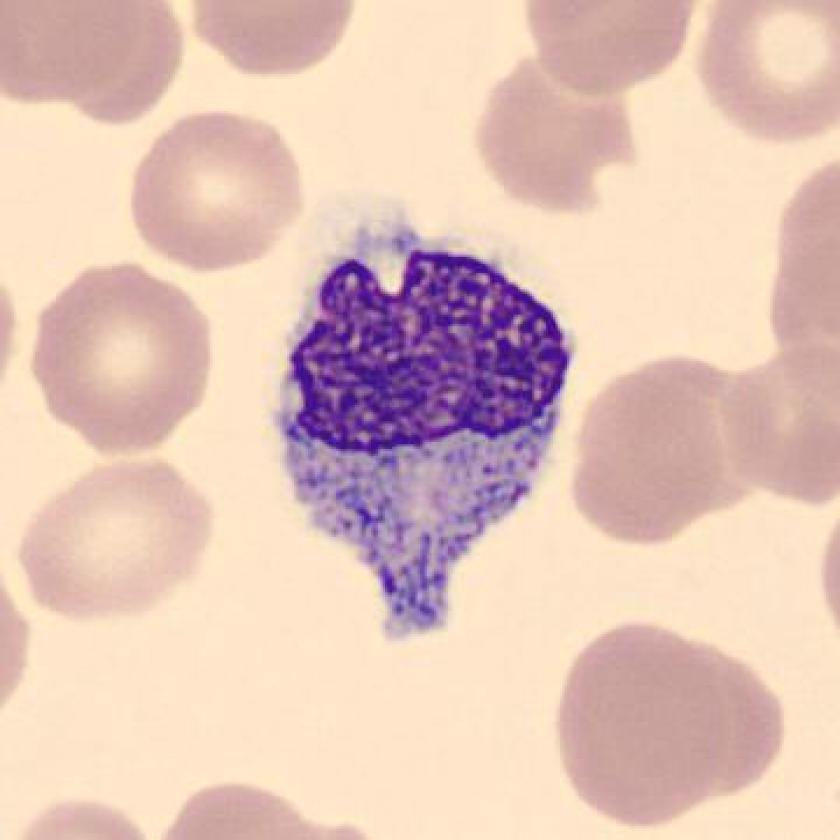monocyte: (248, 163, 596, 667)
